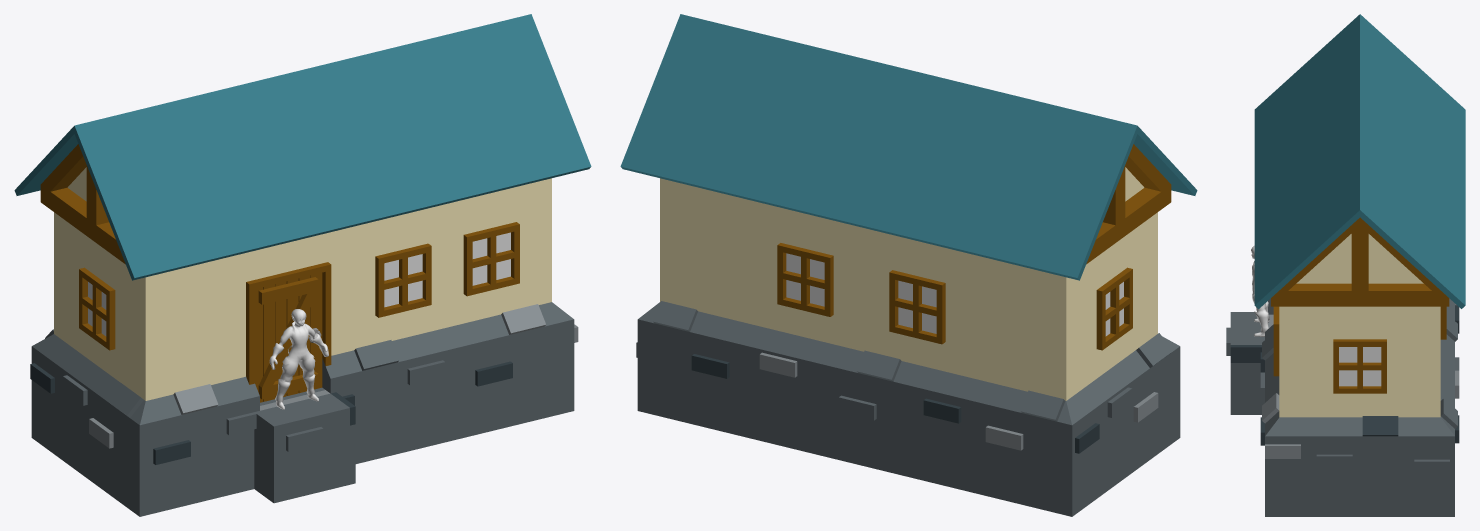
File: Casa azul.fbx
The picture shows the model from 3 angles, left to right: view 1: azimuth 30°, elevation 25°; view 2: azimuth 150°, elevation 25°; view 3: azimuth 270°, elevation 25°; orthographic projection. The views are drawn at different scales.
Parts seen in each view (by area): view 1: House body, Roof, Windows, Door, body; view 2: House body, Roof, Windows; view 3: Roof, House body, Windows, body.
Part boxes in pixels (box(x1,y1,x2,y2)): House body: box(30, 178, 578, 516); Roof: box(14, 14, 591, 280); Windows: box(79, 222, 519, 350); Door: box(246, 262, 331, 402); body: box(269, 309, 328, 409); House body: box(636, 178, 1180, 516); Roof: box(620, 14, 1197, 280); Windows: box(777, 243, 1132, 350); Roof: box(1254, 14, 1465, 309); House body: box(1226, 298, 1459, 516); Windows: box(1273, 306, 1446, 393); body: box(1251, 245, 1269, 336).
Bounding box in the file's own units: 809 × 600 × 417.
